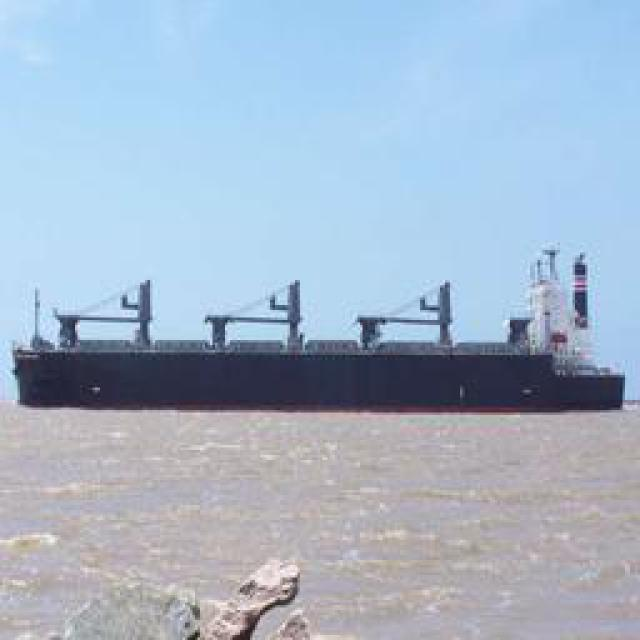Ship: (19, 249, 632, 412)
